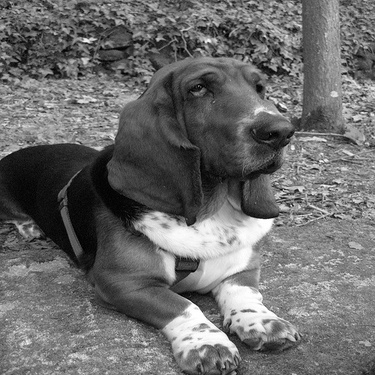dog: (6, 54, 307, 373)
